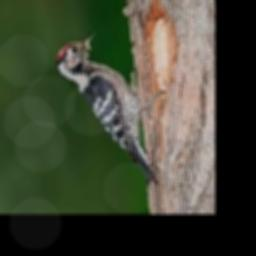Woodpecker: (55, 32, 165, 183)
